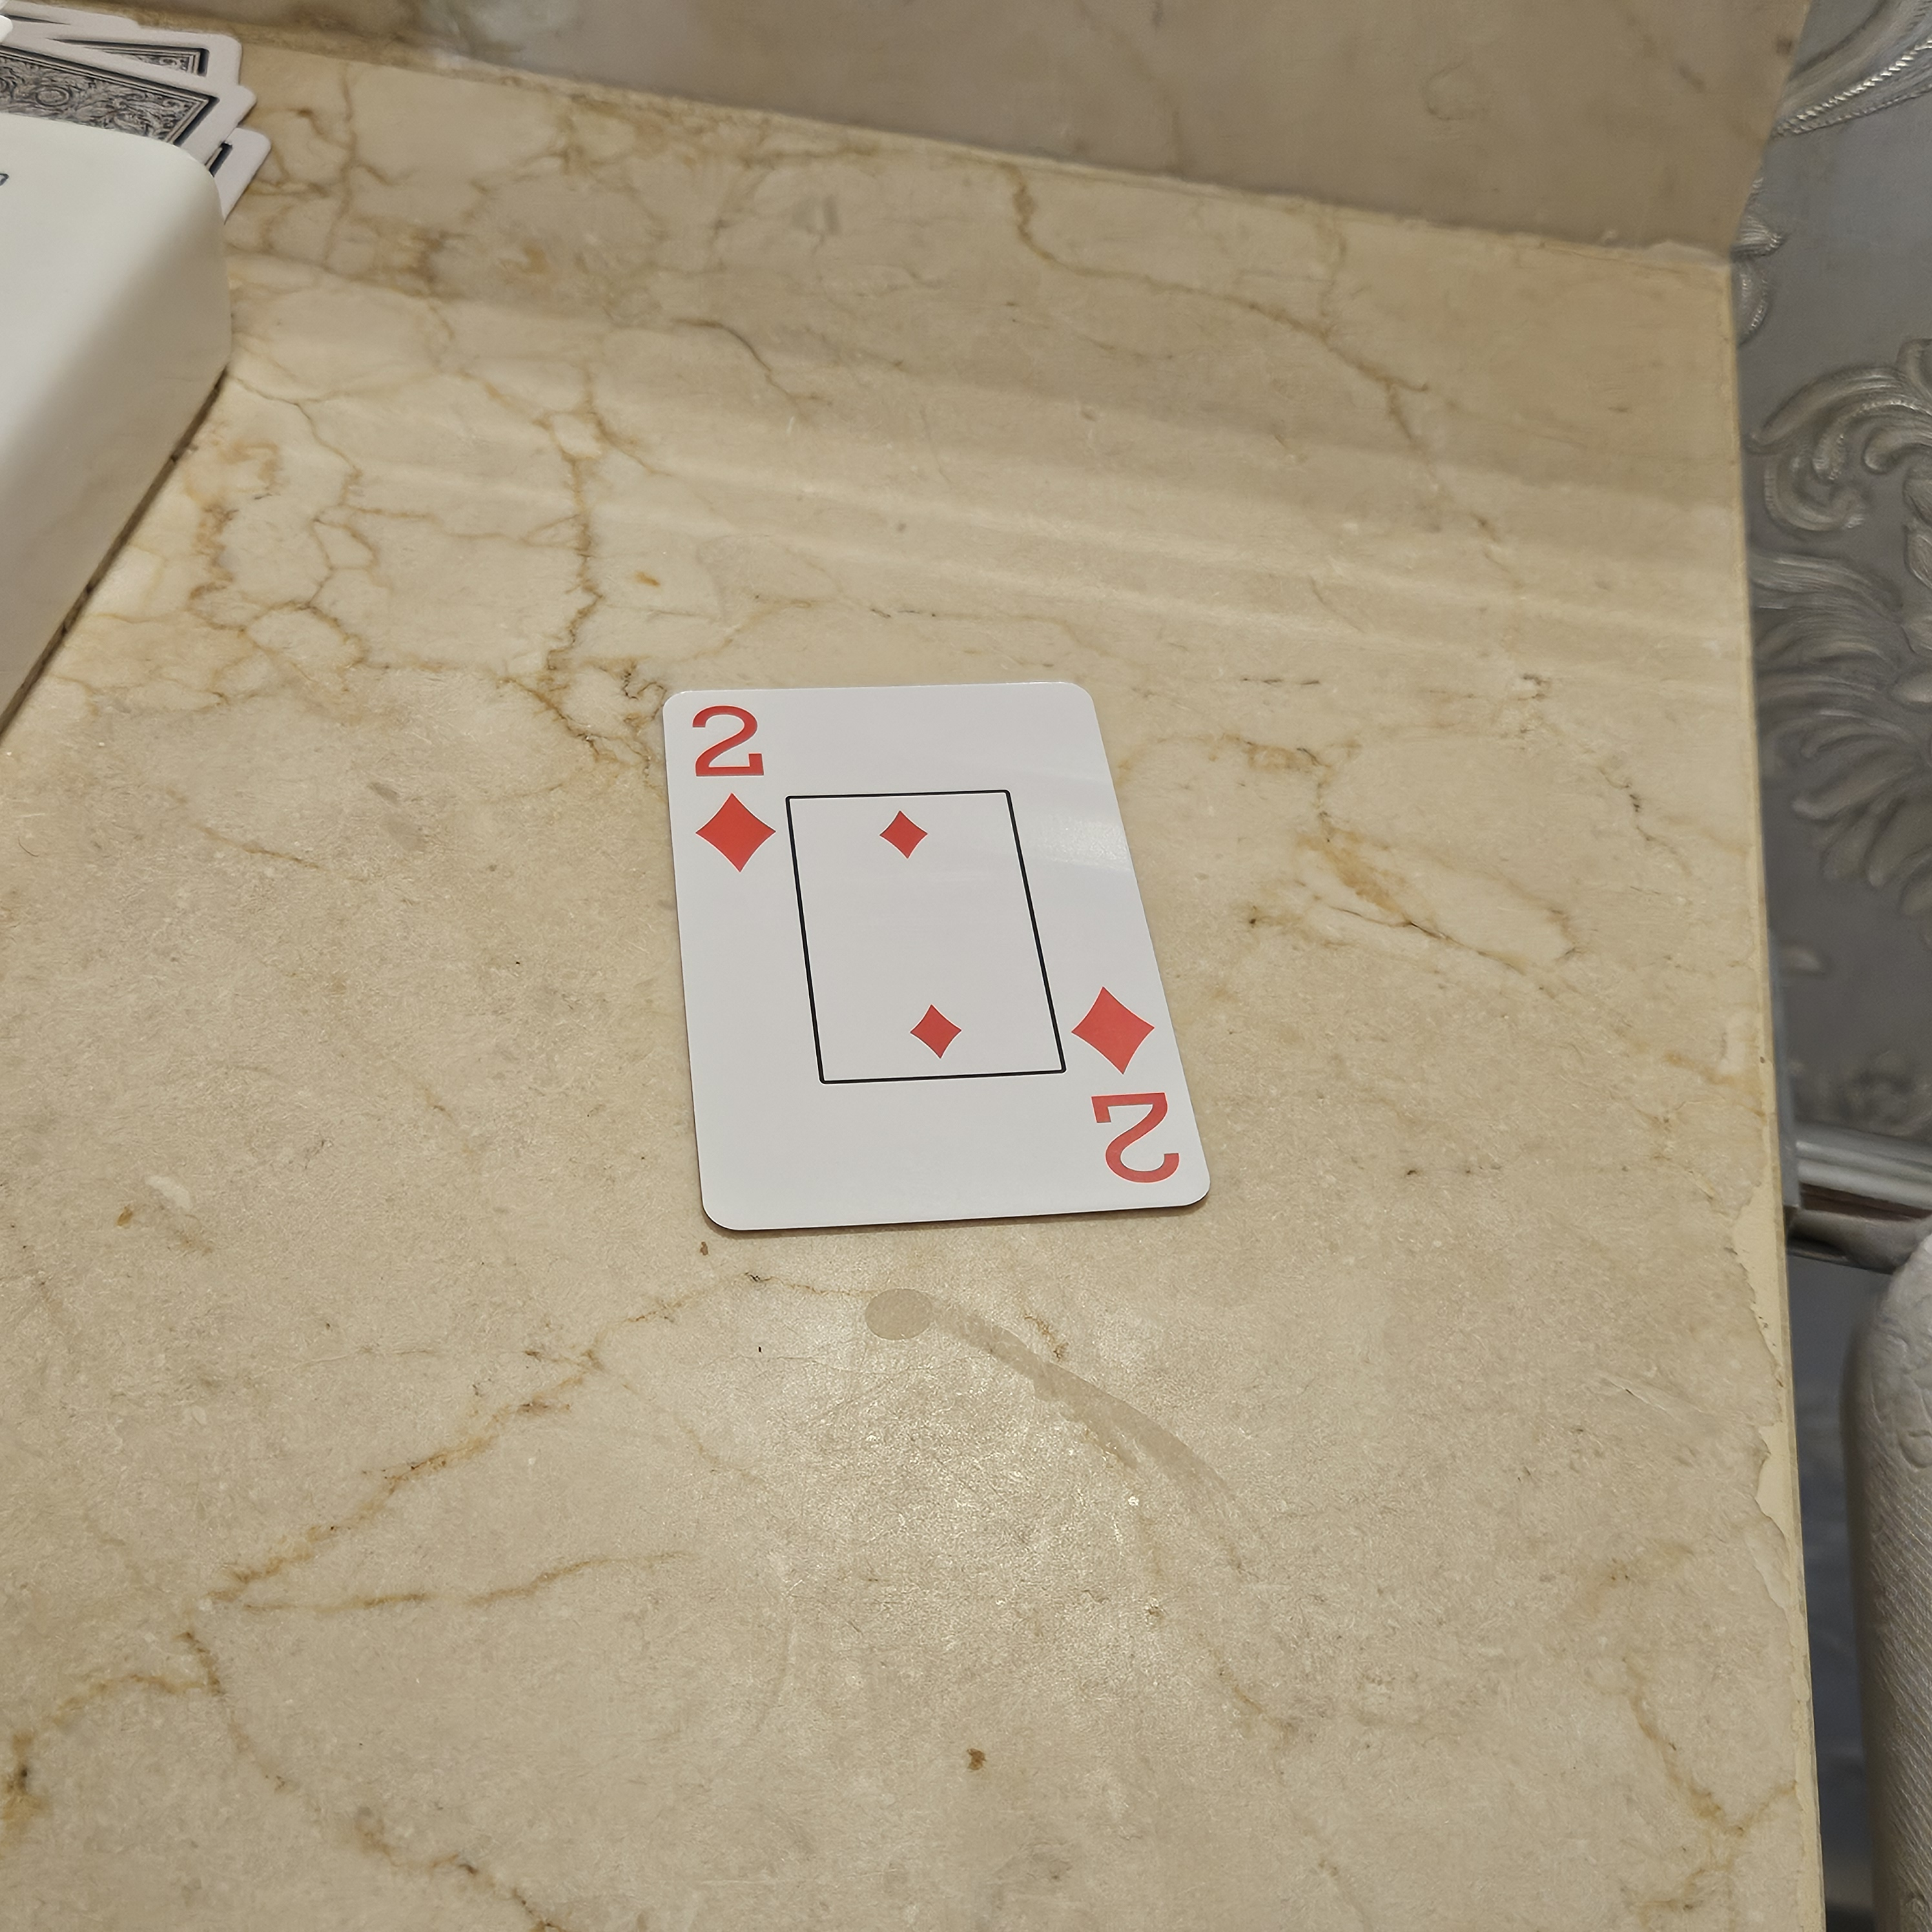2O: (1046, 971, 1207, 1208), (663, 685, 796, 893)
